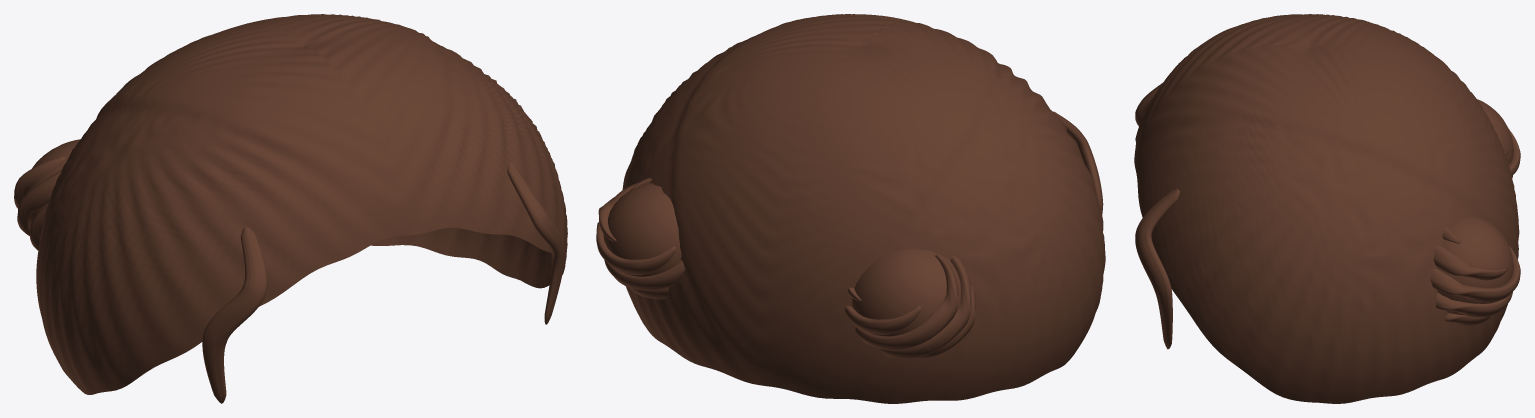
Rendered from Feminine-space-buns-gather249-hair.glb.
3 renders of one model, left to right at view 1: azimuth 30°, elevation 25°; view 2: azimuth 150°, elevation 25°; view 3: azimuth 270°, elevation 25°, orthographic. The views are drawn at different scales.
Parts seen in each view (by area): view 1: 226 hair / Hair / chestnut226.001; view 2: 226 hair / Hair / chestnut226.001; view 3: 226 hair / Hair / chestnut226.001.
Part boxes in pixels (x1=…): 226 hair / Hair / chestnut226.001: x1=14, y1=14, x2=567, y2=403; 226 hair / Hair / chestnut226.001: x1=596, y1=14, x2=1105, y2=403; 226 hair / Hair / chestnut226.001: x1=1134, y1=14, x2=1520, y2=403.
Bounding box in the file's own units: 0.9988 × 0.599 × 0.7874.
